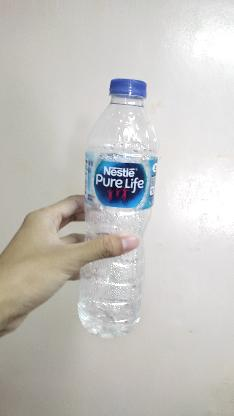Plastic Bottle: (78, 67, 162, 348)
